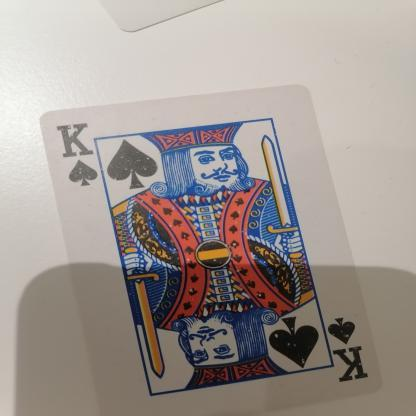KS: (318, 302, 376, 392), (49, 116, 104, 192)
